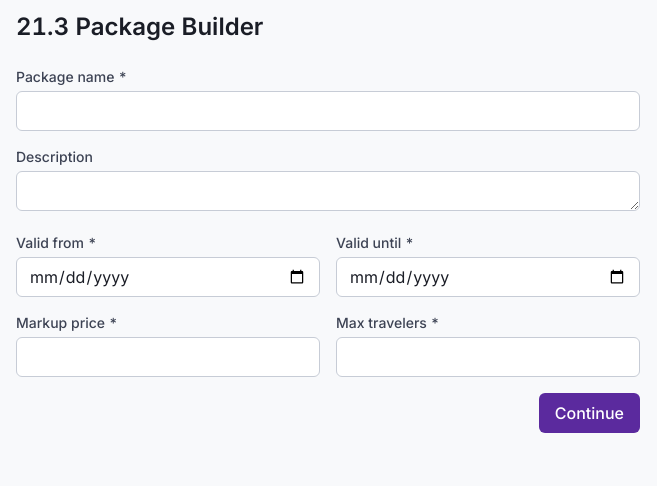
Test: PackageBuilder › blocks submission and shows a validation error when required fields are missing
Step 1. Click the button "Continue" → click(589, 413), box [539,393,640,433]
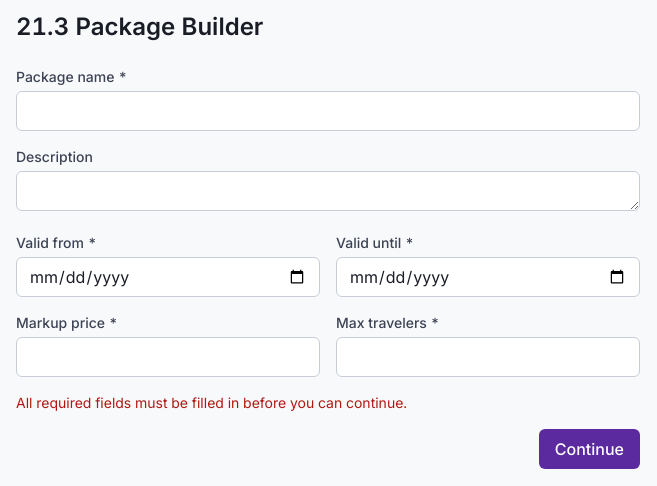
Check: the message shows "required fields must be filled in", box [16,394,407,411]
